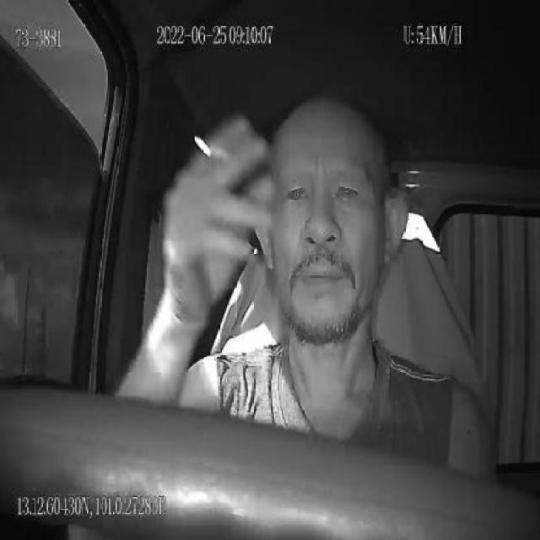smoking: (194, 133, 233, 163)
